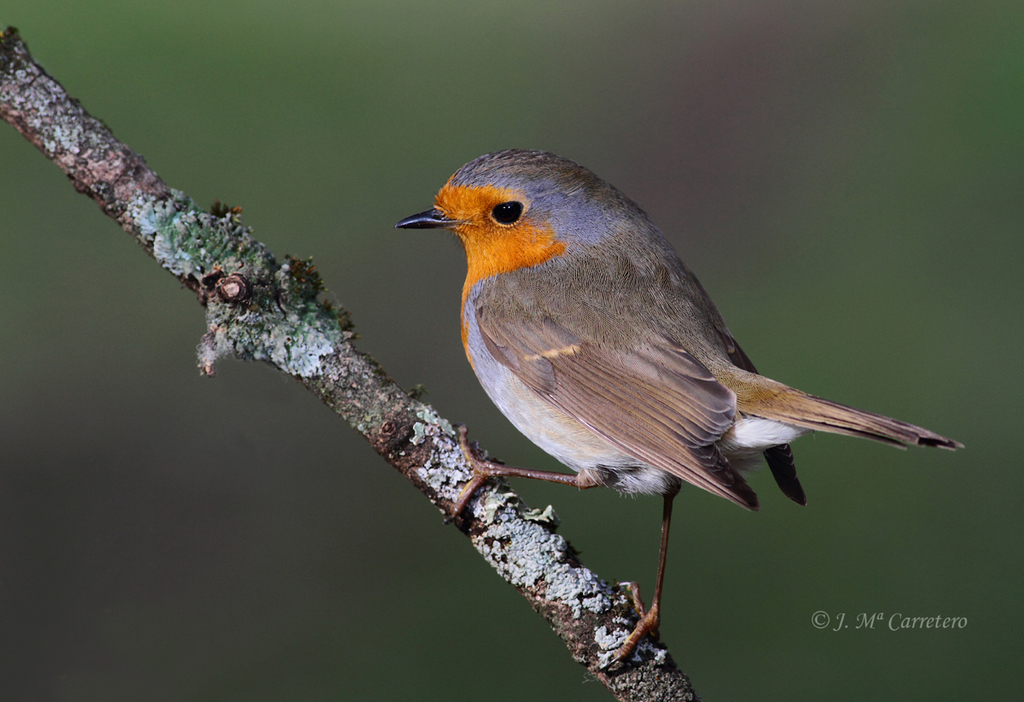Bird: (395, 147, 964, 671)
